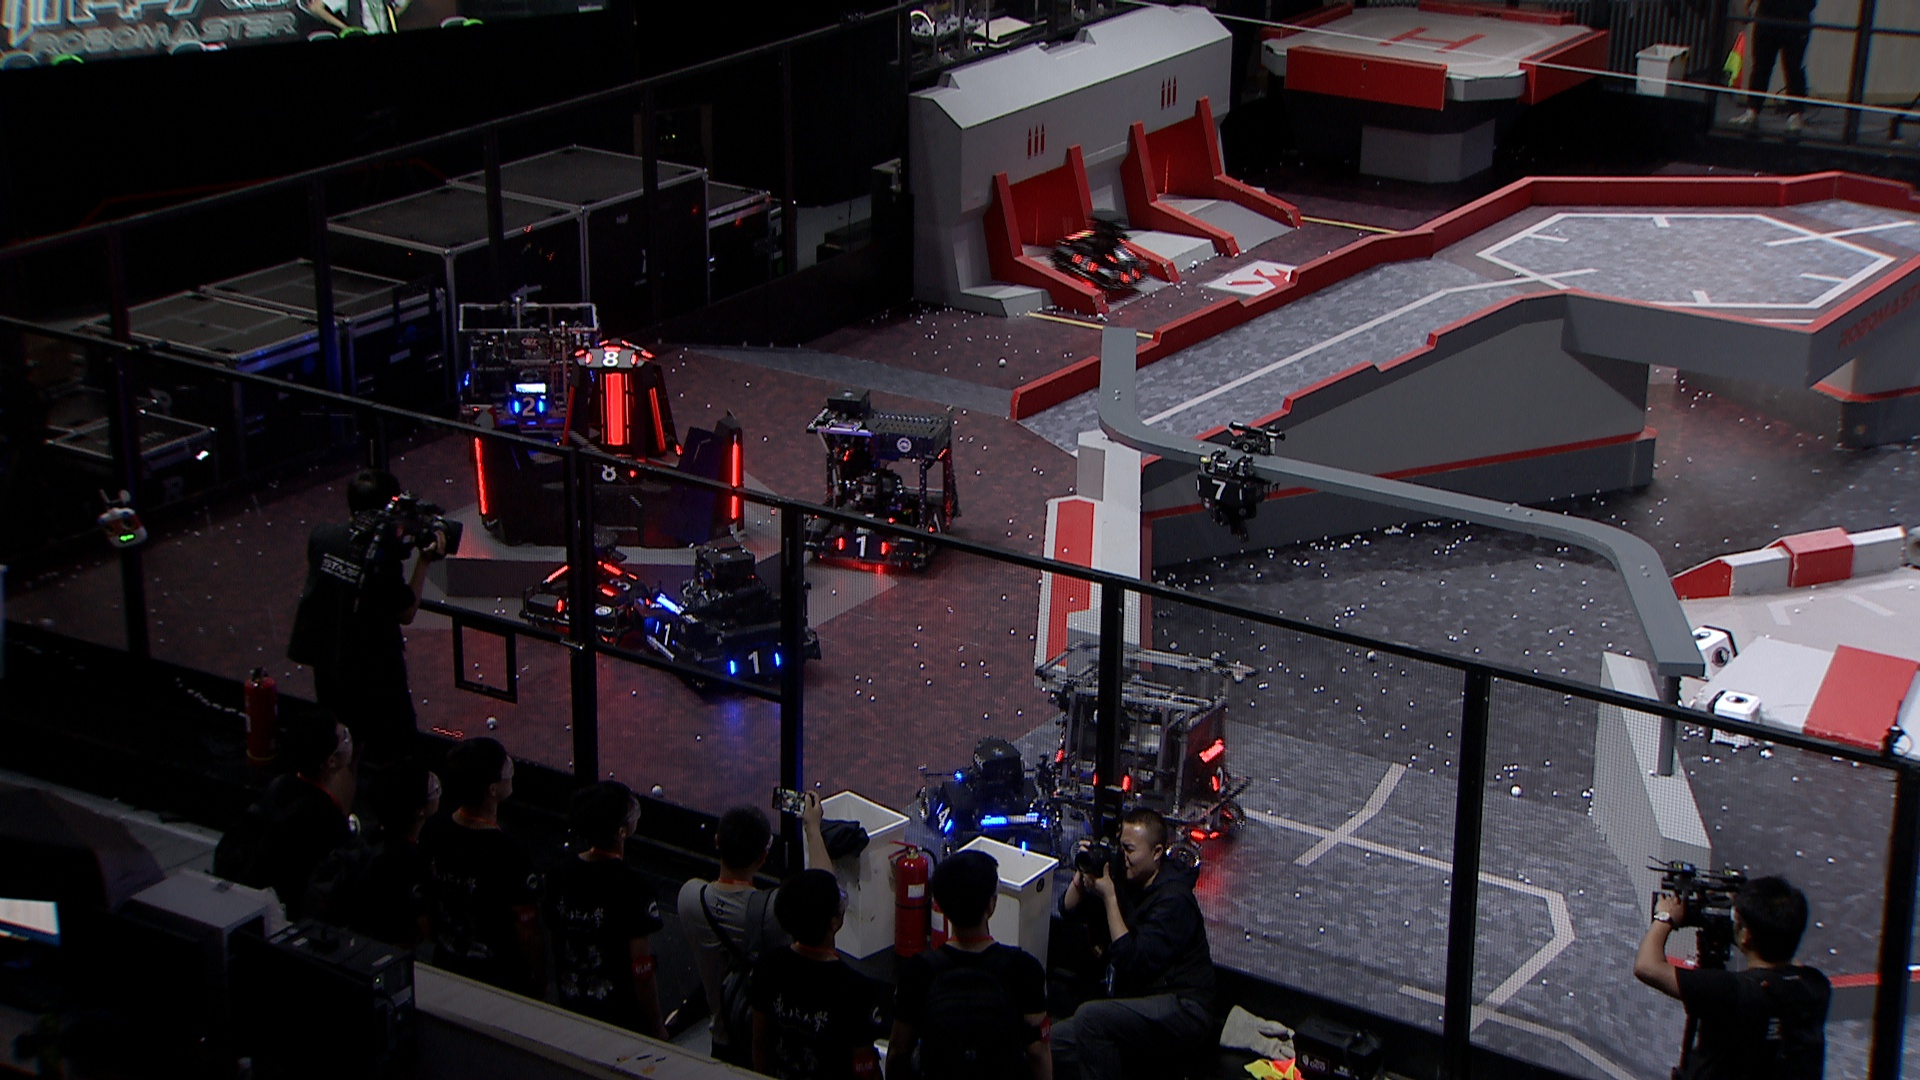armor: (599, 371, 632, 446), (472, 436, 495, 516), (727, 646, 785, 676), (833, 533, 894, 556), (1195, 479, 1249, 505), (588, 460, 641, 485), (647, 386, 667, 452), (728, 442, 744, 524), (597, 567, 638, 599), (583, 348, 640, 368), (560, 385, 576, 447), (651, 618, 680, 647), (513, 396, 546, 418), (1102, 243, 1138, 262), (926, 510, 948, 541), (1072, 252, 1098, 276), (1209, 761, 1229, 793), (935, 800, 953, 833), (1120, 266, 1143, 282)
base: (465, 338, 746, 550)
car: (1033, 636, 1258, 884), (794, 386, 961, 570), (642, 538, 822, 695), (448, 295, 607, 448), (915, 738, 1067, 874), (522, 527, 659, 646), (1050, 204, 1153, 301)
watcher: (1191, 419, 1288, 542)
